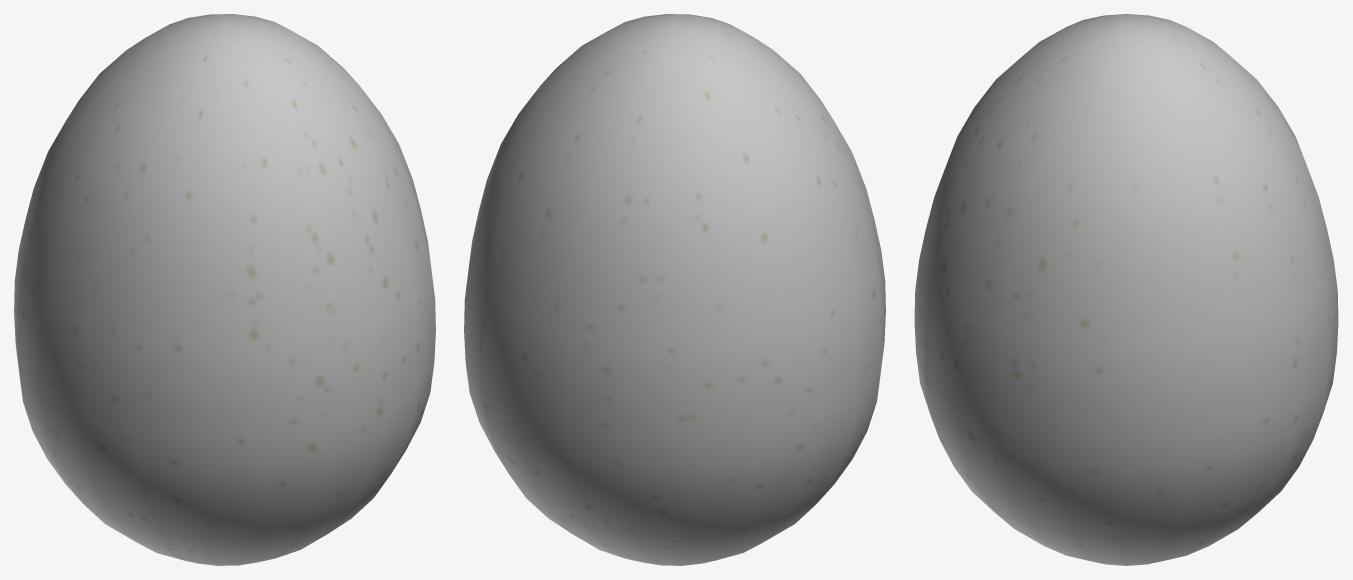
Rendered from Egg White.fbx.
3 views of the same model, side by side, from view 1: azimuth 30°, elevation 25°; view 2: azimuth 150°, elevation 25°; view 3: azimuth 270°, elevation 25° (orthographic).
Parts seen in each view (by area): view 1: pCylinder11; view 2: pCylinder11; view 3: pCylinder11.
Boxes of the visible parts, x1,y1,x2,y2 form: pCylinder11: [14, 14, 435, 565]; pCylinder11: [464, 14, 885, 565]; pCylinder11: [914, 14, 1338, 565].
Bounding box in the file's own units: 0.5655 × 0.7698 × 0.5655.
Materials: 1 (1 with a texture image).
